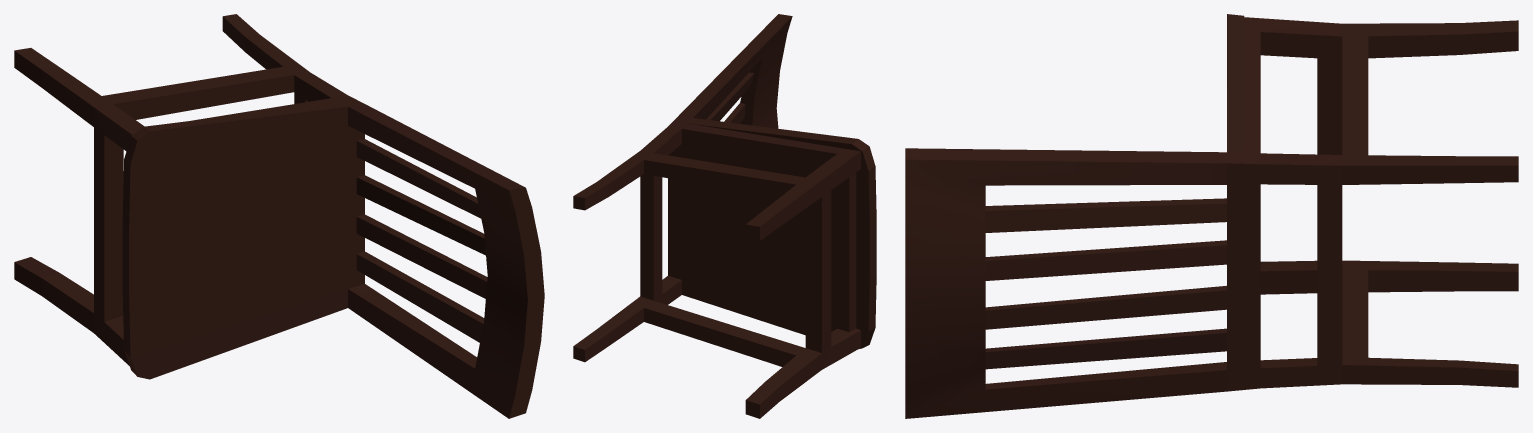
File: chair.obj
The picture shows the model from 3 angles, left to right: view 1: azimuth 30°, elevation 25°; view 2: azimuth 150°, elevation 25°; view 3: azimuth 270°, elevation 25°; orthographic projection. The views are drawn at different scales.
Visible parts, largest first — view 1: polySurface1; view 2: polySurface1; view 3: polySurface1.
Boxes of the visible parts, left/top/right/bottom form: polySurface1: left=14, top=14, right=544, bottom=418; polySurface1: left=573, top=14, right=876, bottom=418; polySurface1: left=905, top=14, right=1518, bottom=418.
Size of the model in its own units: 182 by 157 by 305.
